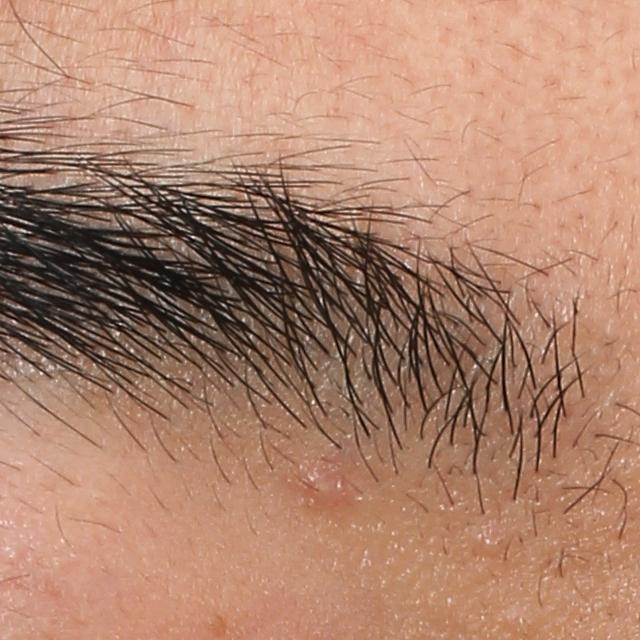comedo: (474, 527, 504, 558)
papule: (302, 468, 346, 510)
